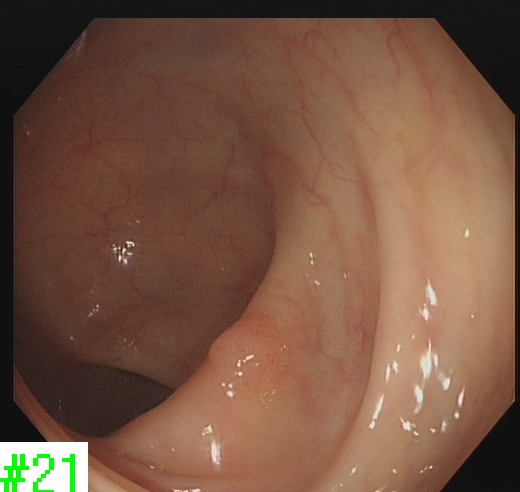adenoma: (206, 319, 280, 388)
